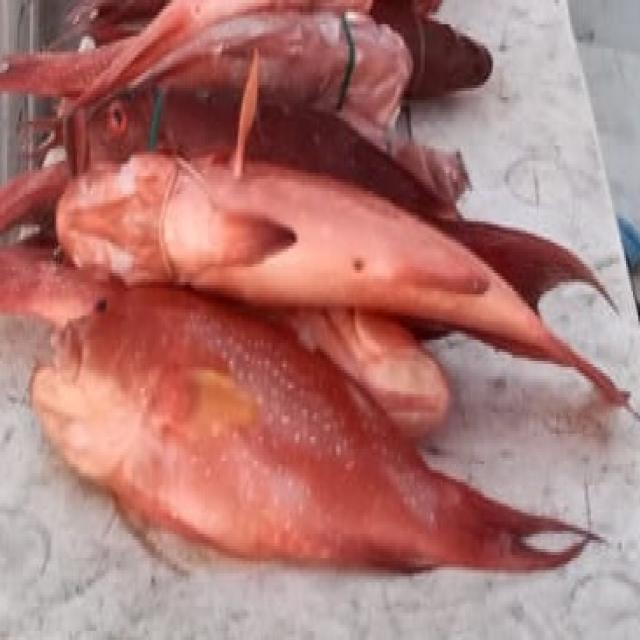Plectropomus-leopardus: (31, 282, 602, 582)
